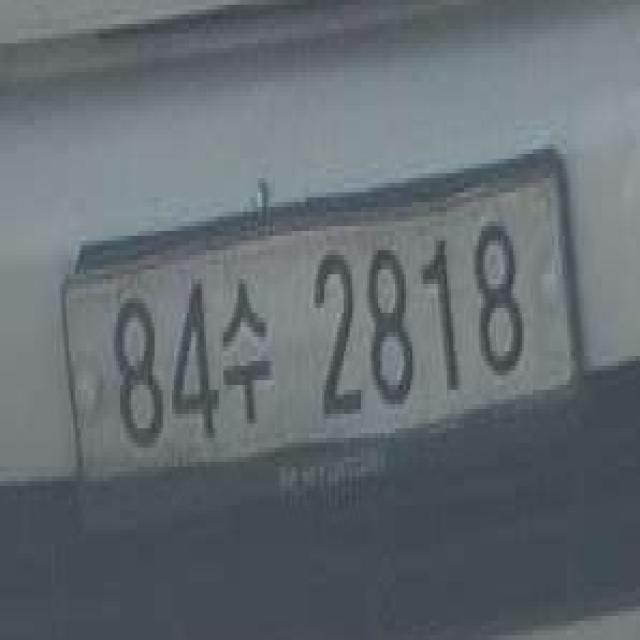plat: (59, 144, 585, 482)
